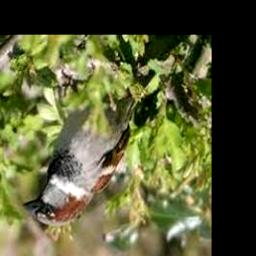Sparrow: (22, 93, 139, 226)
